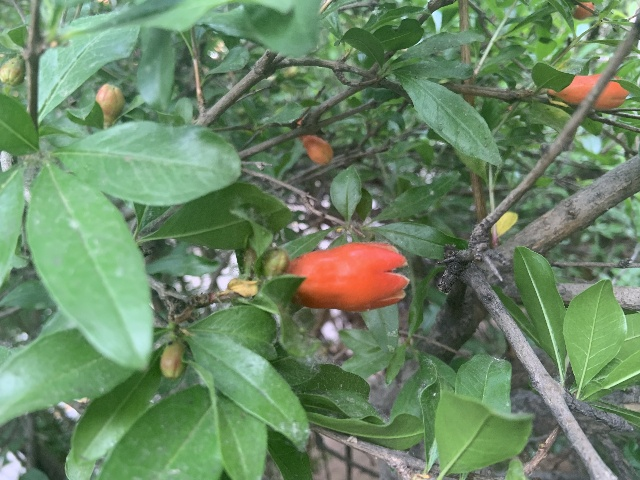bud: (548, 73, 629, 108), (95, 83, 124, 127), (159, 341, 188, 379), (300, 133, 333, 165), (261, 249, 289, 277), (0, 58, 25, 85)
flower: (285, 241, 409, 312)
